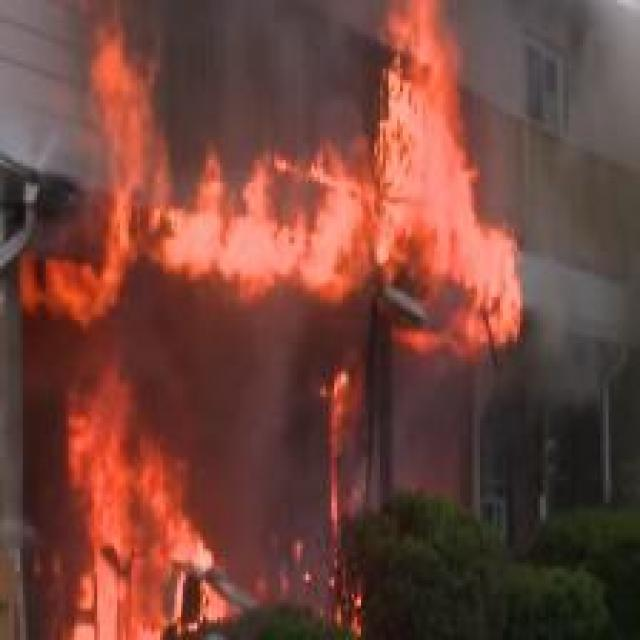Fire: (20, 0, 523, 360), (47, 348, 241, 640)
